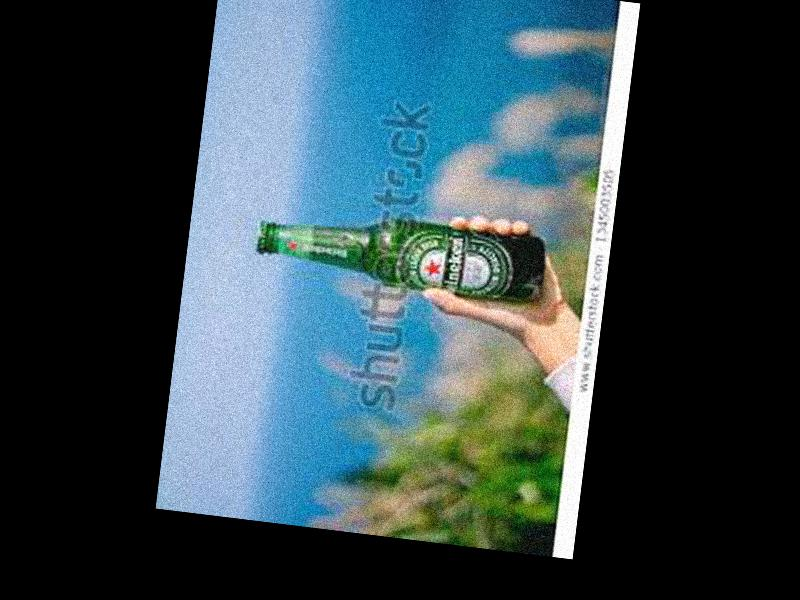Beer: (252, 203, 549, 306)
